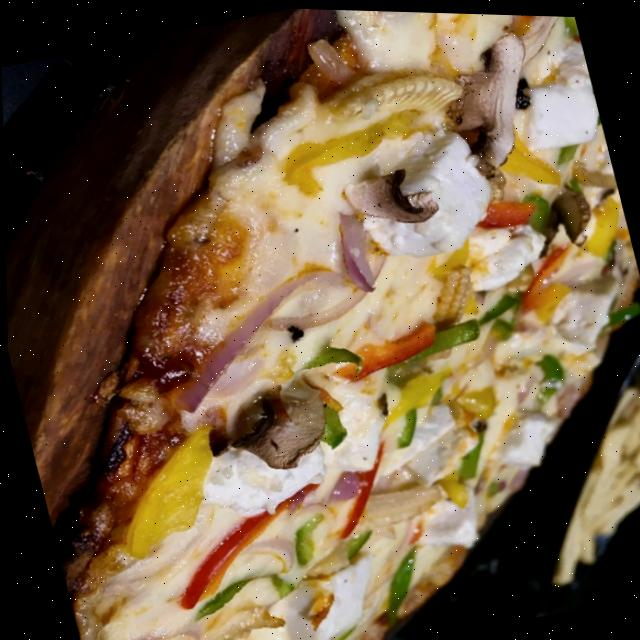mushrooms: (421, 16, 558, 178), (190, 362, 342, 486), (334, 154, 442, 237), (519, 173, 611, 250)
pizza: (0, 0, 640, 640)
